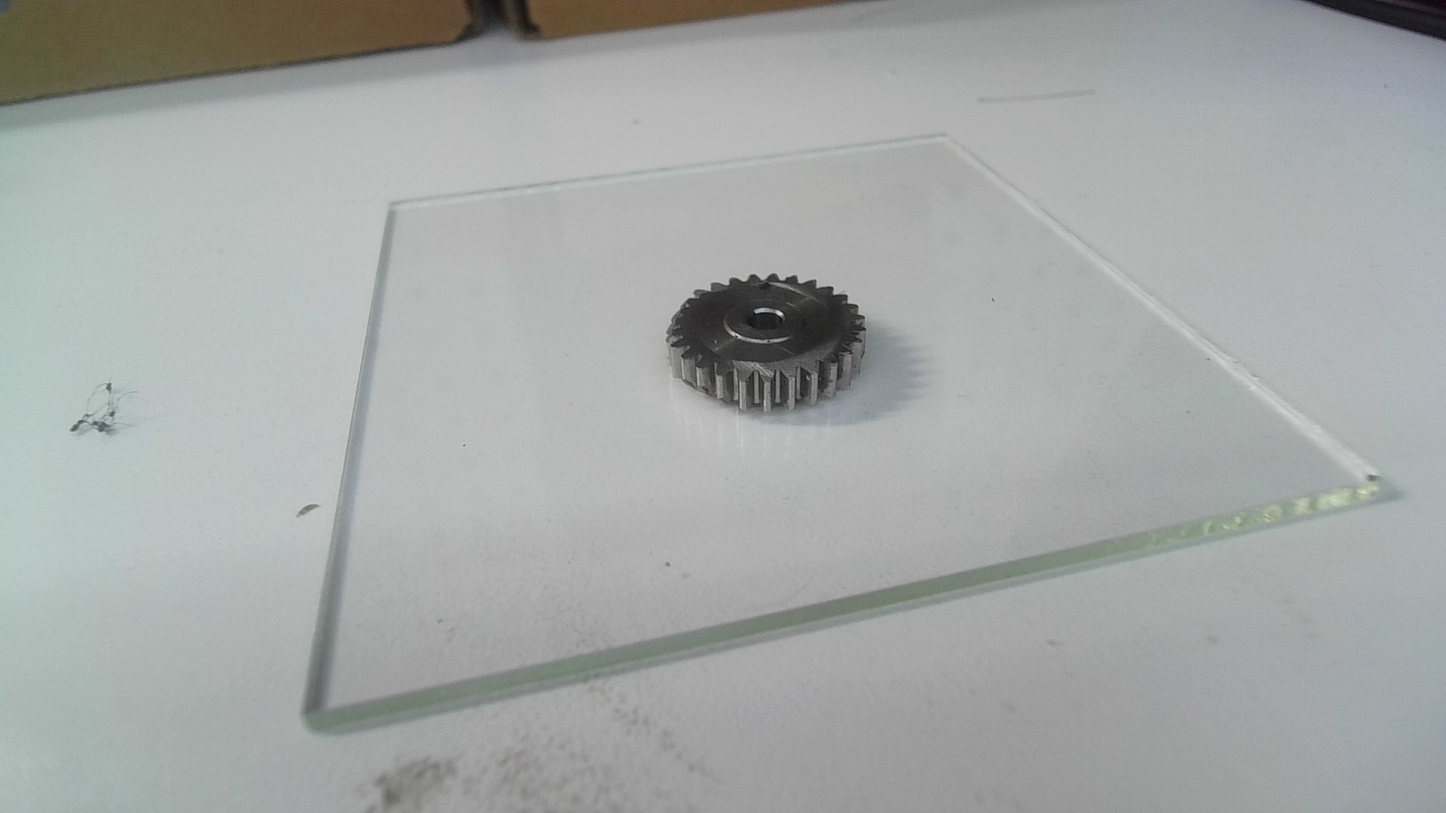gear: (663, 272, 870, 417)
